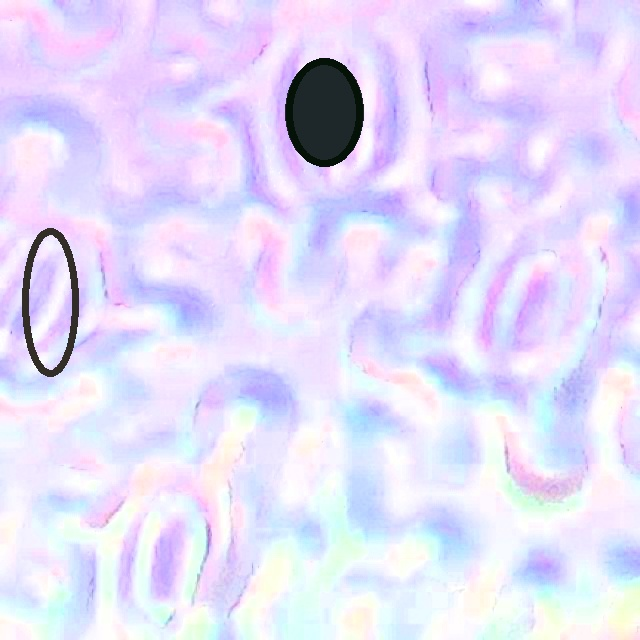open: (20, 227, 79, 376), (285, 59, 363, 166)
